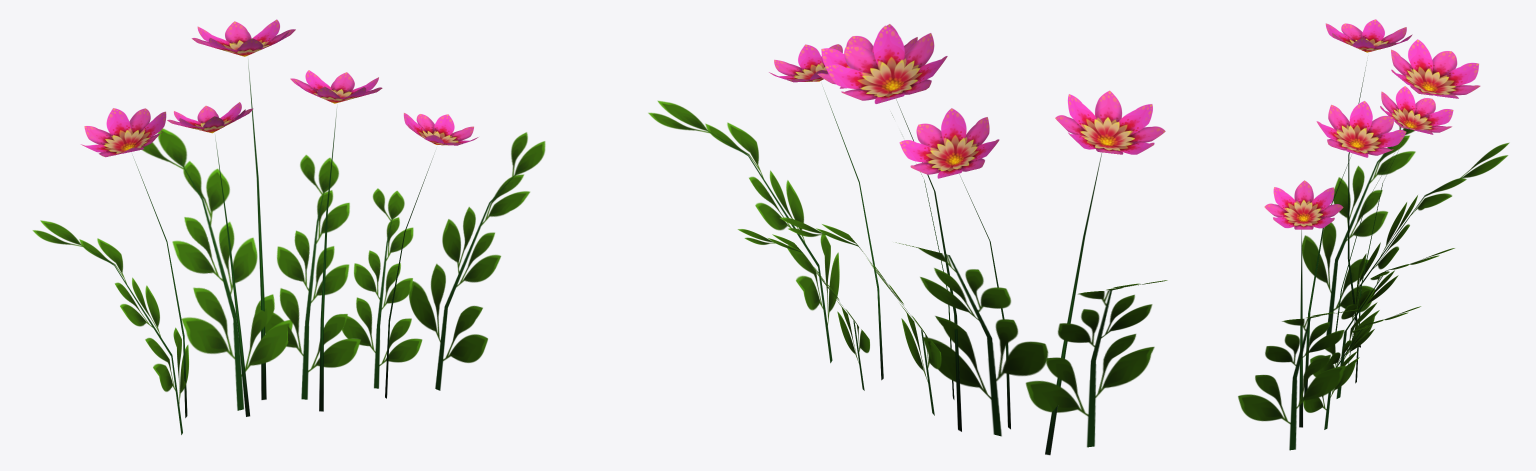
The model's file is Flower4.glb.
3 views of the same model, side by side, from view 1: azimuth 30°, elevation 25°; view 2: azimuth 150°, elevation 25°; view 3: azimuth 270°, elevation 25° (orthographic). The views are drawn at different scales.
Visible parts, largest first — view 1: Flower_18; view 2: Flower_18; view 3: Flower_18.
Part boxes in pixels (x1=…): Flower_18: x1=32, y1=19, x2=545, y2=434; Flower_18: x1=648, y1=24, x2=1167, y2=455; Flower_18: x1=1238, y1=19, x2=1509, y2=450.
Bounding box in the file's own units: 35.68 × 23.17 × 17.64.
Materials: 1 (1 with a texture image).
